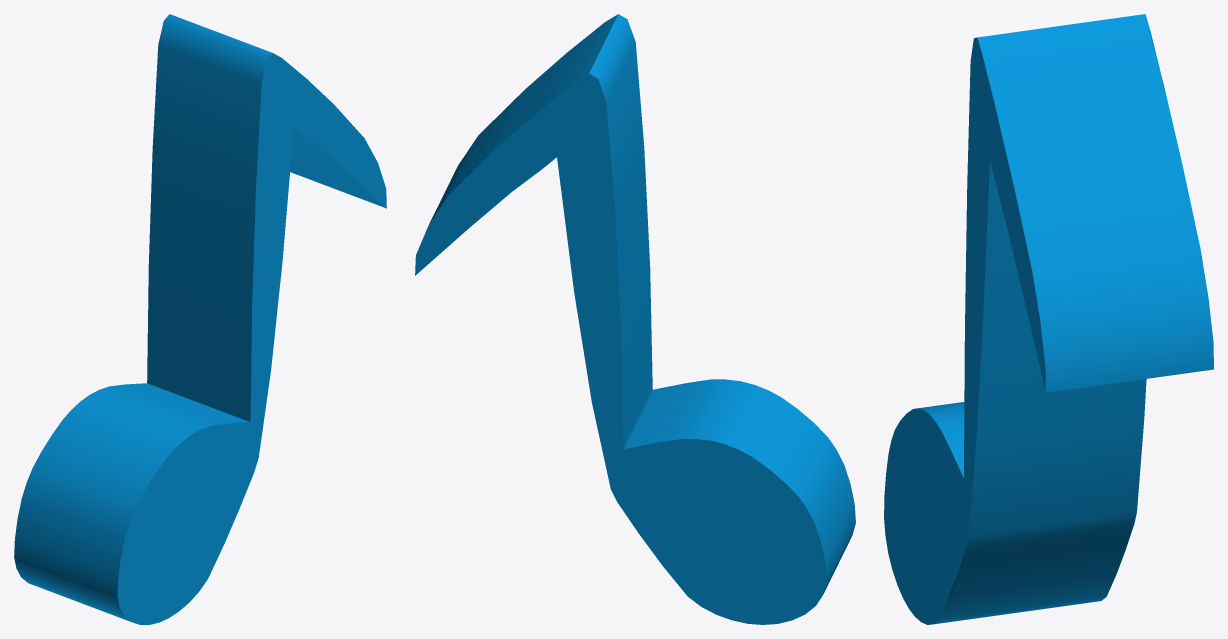
Rendered from NotaMusical.fbx.
The picture shows the model from 3 angles, left to right: view 1: azimuth 30°, elevation 25°; view 2: azimuth 150°, elevation 25°; view 3: azimuth 270°, elevation 25°; orthographic projection. The views are drawn at different scales.
Visible parts, largest first — view 1: node_id30; view 2: node_id30; view 3: node_id30.
Boxes of the visible parts, <box> form: node_id30: <box>14,14,386,624</box>; node_id30: <box>415,14,855,624</box>; node_id30: <box>884,14,1213,624</box>.
Bounding box in the file's own units: 0.3845 × 0.512 × 0.2322.
1 material, 1 textured.
